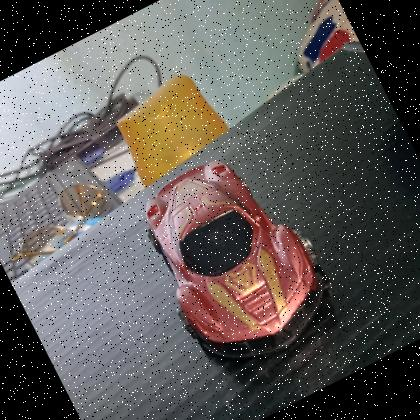Car: (117, 130, 357, 392)
